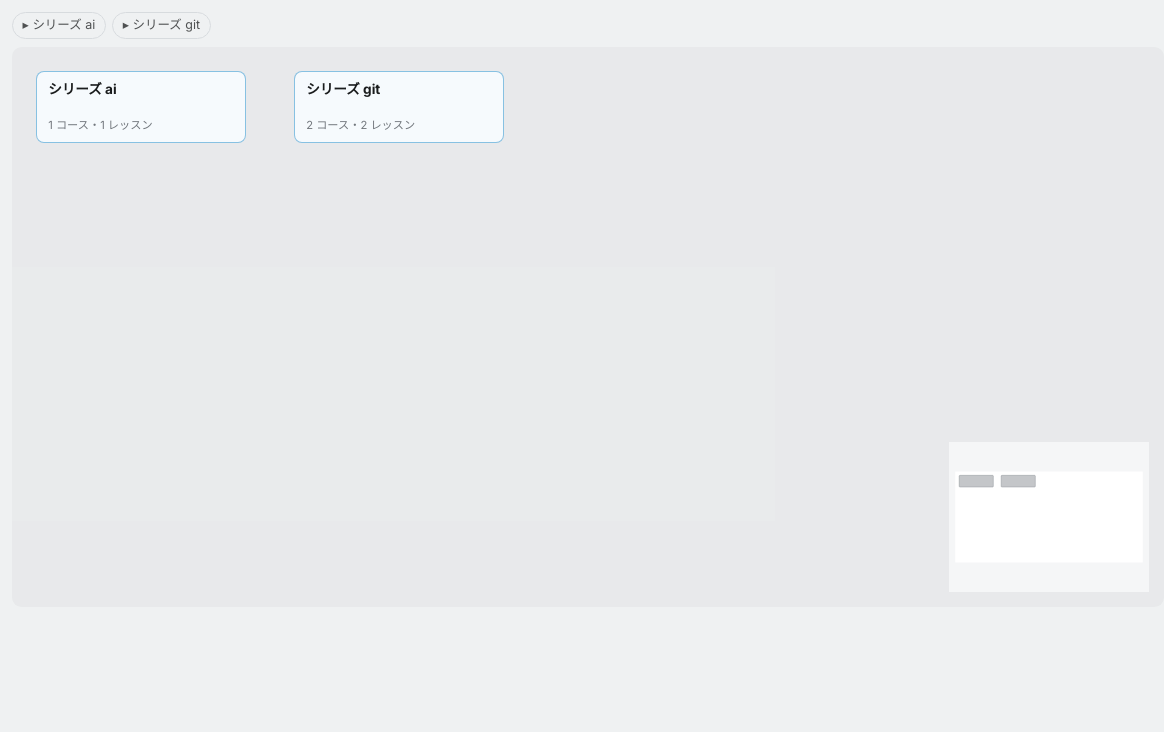
Test: モーダルの全体曼陀羅はダブルクリックでシリーズを開閉できる › 集約ノードのダブルクリックで展開され、記憶される
Double-click the text "2 コース・2 レッスン" at (361, 125), box 306,118 -> 415,132
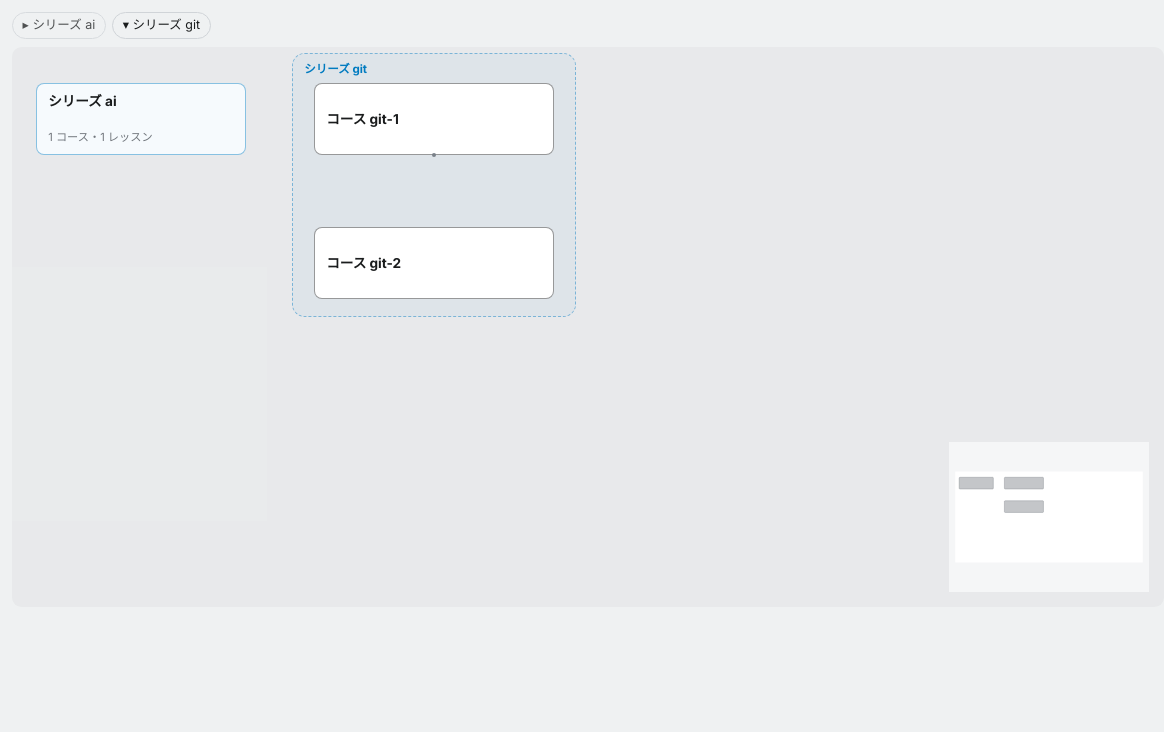
Now the text "2 コース・2 レッスン" is gone
Now the text "コース git-1" is shown, box 326,110 -> 399,128
